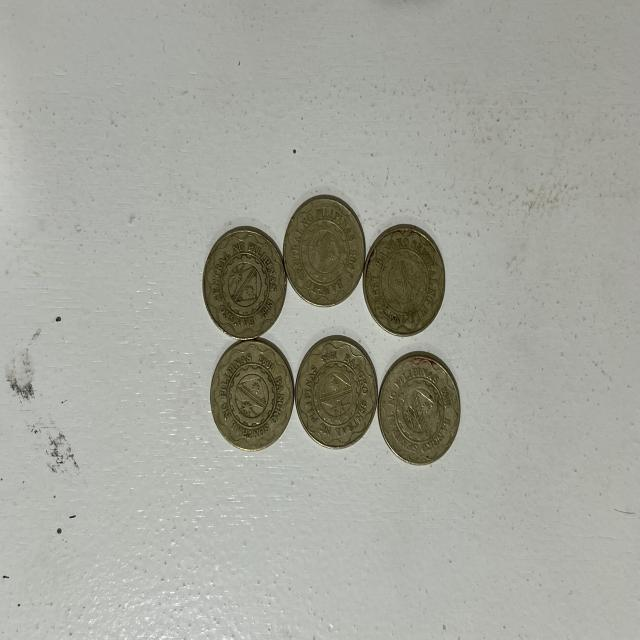5_Old_Back: (206, 333, 296, 457), (377, 352, 467, 467), (363, 218, 437, 344), (279, 197, 372, 297), (306, 339, 384, 453), (204, 225, 283, 332)
